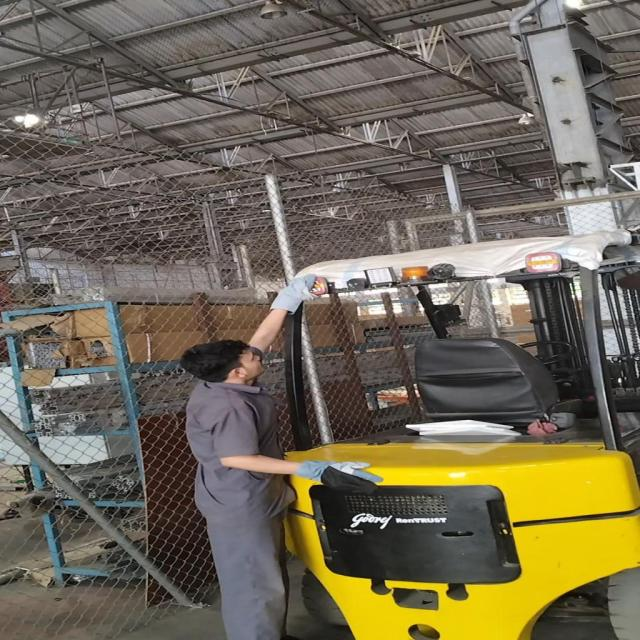Gloves-Detection: (288, 457, 379, 499), (268, 269, 317, 316)
